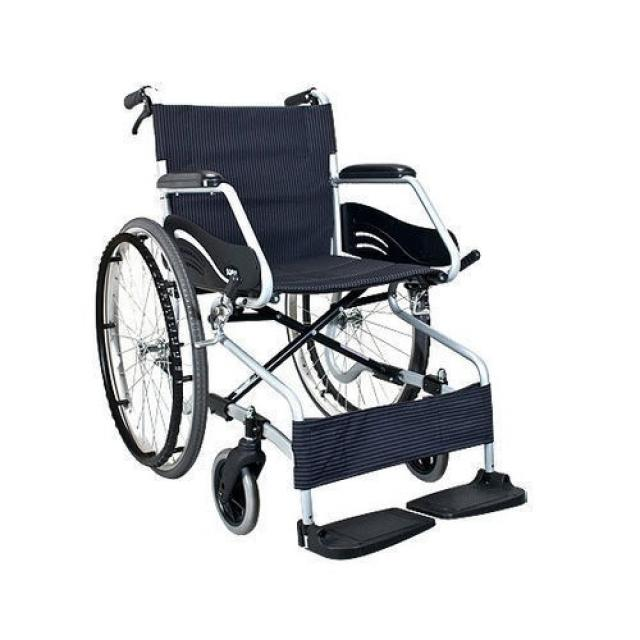wheelchair: (80, 48, 544, 586)
